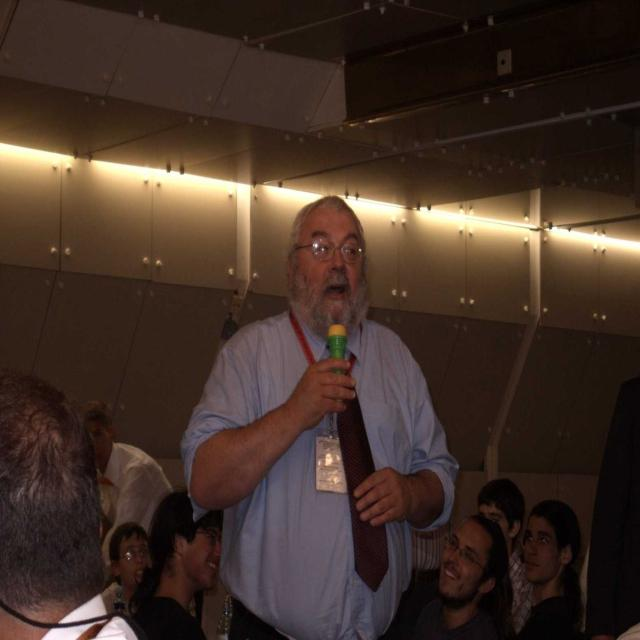microphone: (326, 324, 348, 378)
